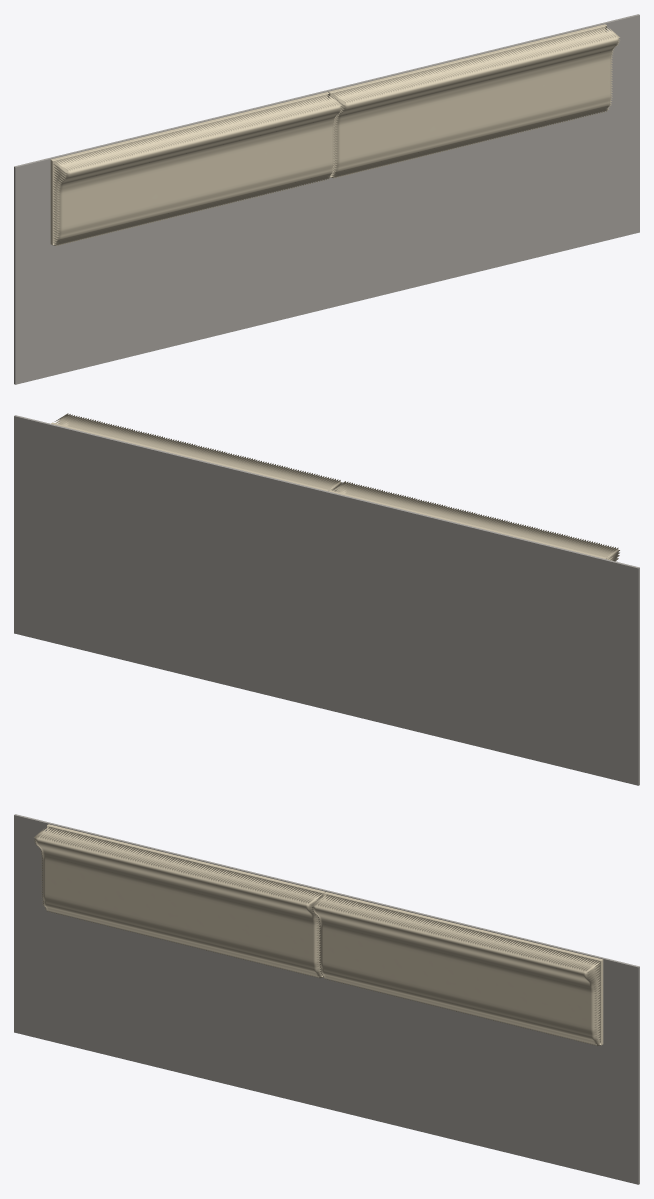
File: terilgan.glb
3 views of the same model, one above another, from view 1: azimuth 30°, elevation 25°; view 2: azimuth 150°, elevation 25°; view 3: azimuth 330°, elevation 25° (orthographic).
Parts seen in each view (by area): view 1: Devor, t0, t1; view 2: Devor, t0, t1; view 3: Devor, t1, t0.
Boxes of the visible parts, box(x1,y1,x2,y2) form: Devor: box(14, 14, 639, 384); t0: box(50, 92, 342, 246); t1: box(328, 24, 620, 178); Devor: box(14, 415, 639, 785); t0: box(328, 481, 619, 561); t1: box(51, 413, 342, 491); Devor: box(14, 814, 639, 1184); t1: box(311, 892, 603, 1046); t0: box(33, 824, 325, 978).
Bounding box in the file's own units: 2.71 × 0.9 × 0.1271.
